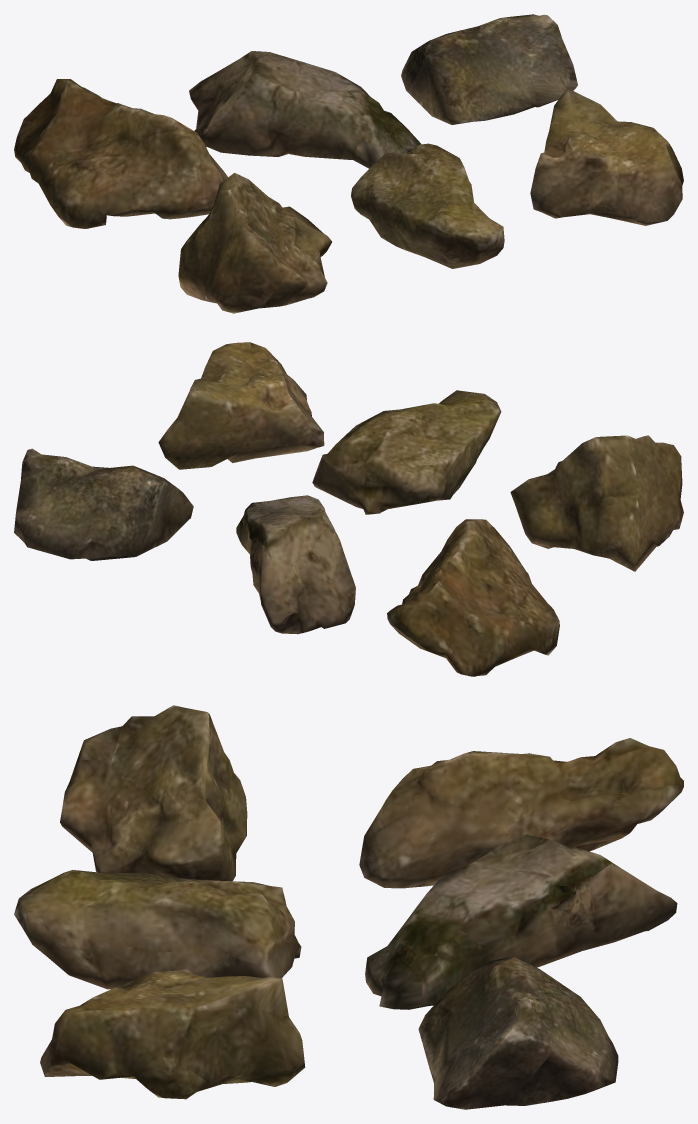
Rendered from rocks.glb.
3 renders of one model, top to bottom at view 1: azimuth 30°, elevation 25°; view 2: azimuth 150°, elevation 25°; view 3: azimuth 270°, elevation 25°, orthographic. The views are drawn at different scales.
Parts seen in each view (by area): view 1: m; view 2: m; view 3: m.
Part boxes in pixels (x1,y1,x2,y2): m: (14, 14, 683, 313); m: (14, 342, 683, 676); m: (14, 705, 683, 1109).
Bounding box in the file's own units: 8 × 1.76 × 6.94.
Materials: 1 (1 with a texture image).
